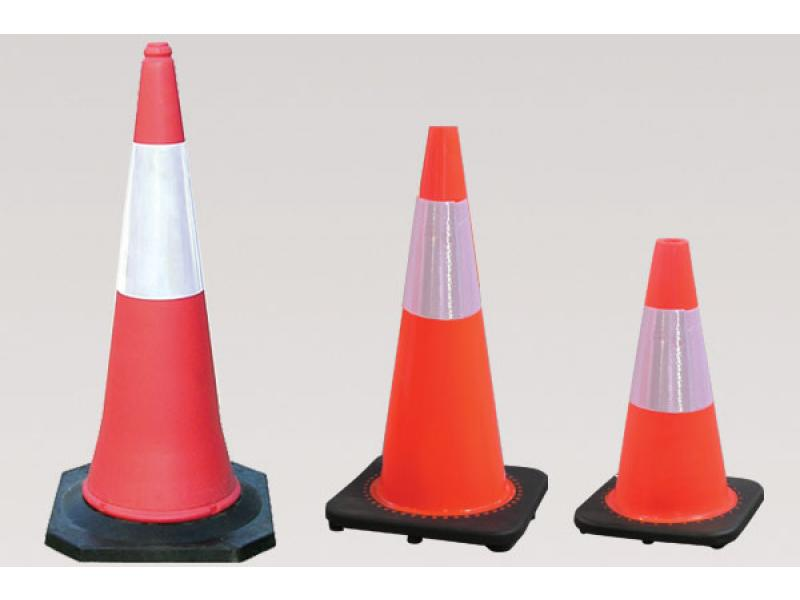orangeC: (33, 40, 297, 574), (320, 115, 549, 561), (571, 230, 771, 554)
